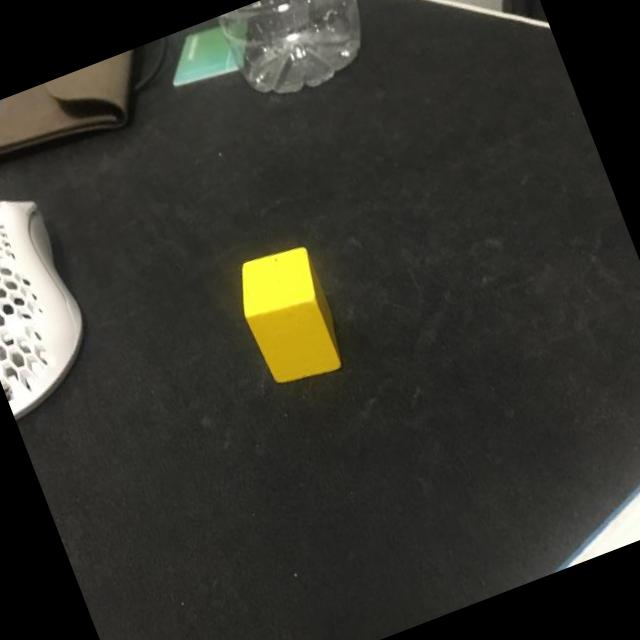yellow: (226, 240, 352, 395)
